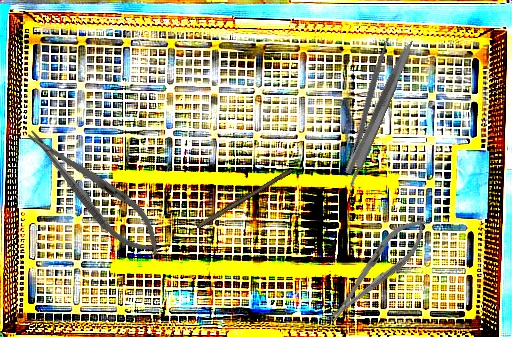Dressing Forceps: (331, 37, 409, 176)
Needle Holder: (15, 116, 174, 268), (319, 208, 436, 331)
Scalpel Handle: (342, 37, 417, 190), (195, 165, 294, 231)
